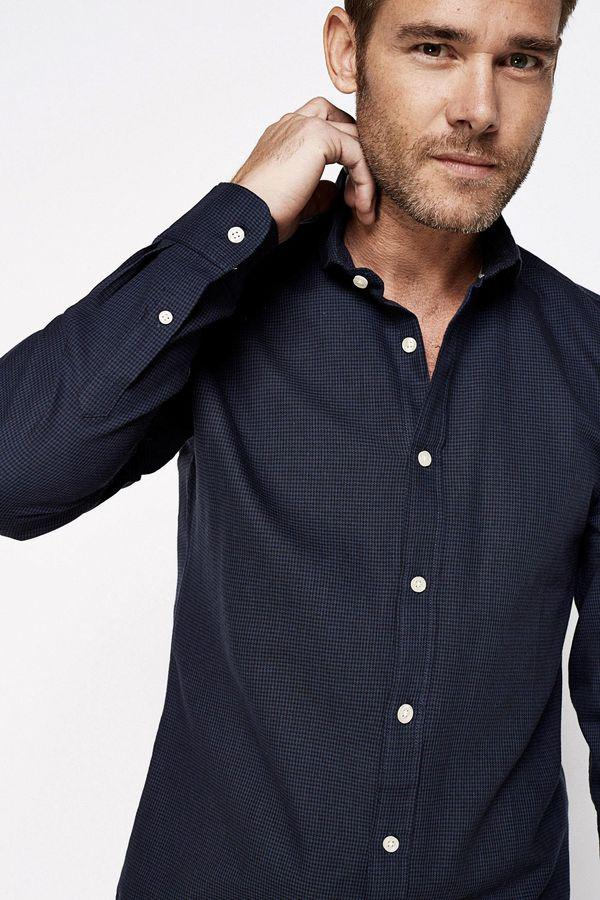teeshirt: (1, 149, 597, 900)
